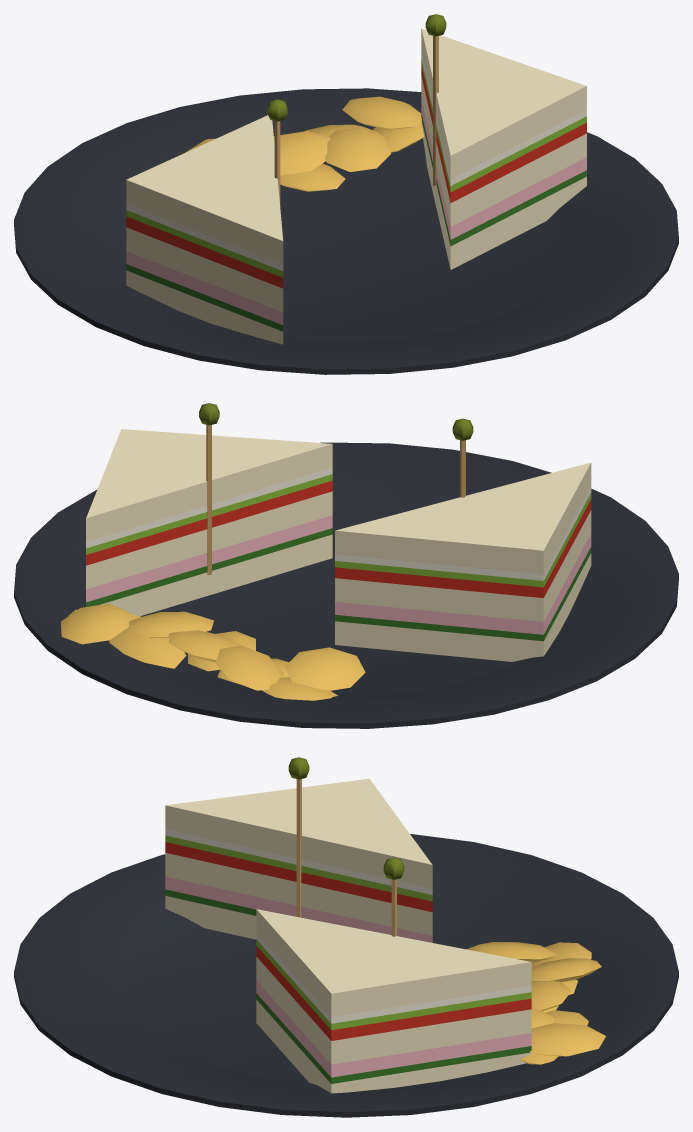
Rendered from meal_club_sandwich.glb.
The picture shows the model from 3 angles, top to bottom: view 1: azimuth 30°, elevation 25°; view 2: azimuth 150°, elevation 25°; view 3: azimuth 270°, elevation 25°; orthographic projection.
Parts seen in each view (by area): view 1: meal_club_sandwich; view 2: meal_club_sandwich; view 3: meal_club_sandwich.
Boxes of the visible parts, left/top/right/bottom form: meal_club_sandwich: left=14, top=14, right=678, bottom=374; meal_club_sandwich: left=14, top=403, right=678, bottom=728; meal_club_sandwich: left=14, top=757, right=678, bottom=1117.
Size of the model in its own units: 0.28 by 0.098 by 0.28.
